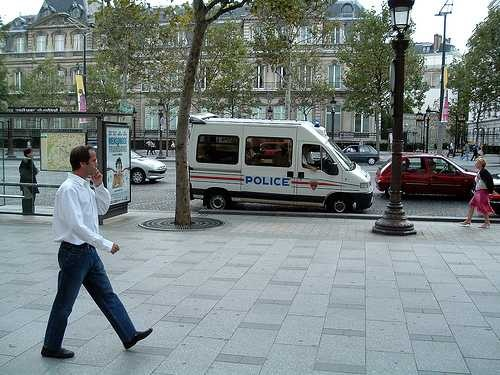Police Van: (180, 106, 386, 220)
